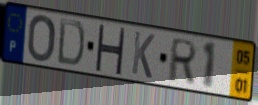1: (200, 40, 218, 91)
D: (55, 16, 86, 69)
H: (93, 22, 127, 77)
K: (130, 29, 157, 81)
O: (26, 14, 58, 64)
R: (165, 36, 199, 85)
